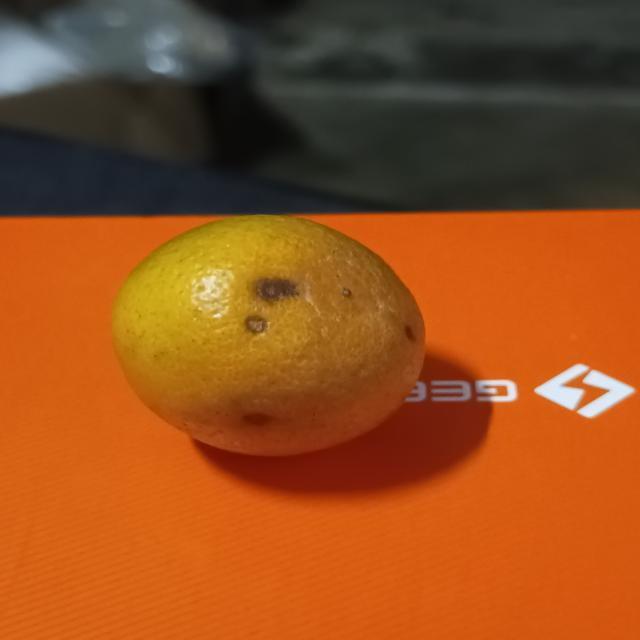black spot: (112, 214, 440, 462)
